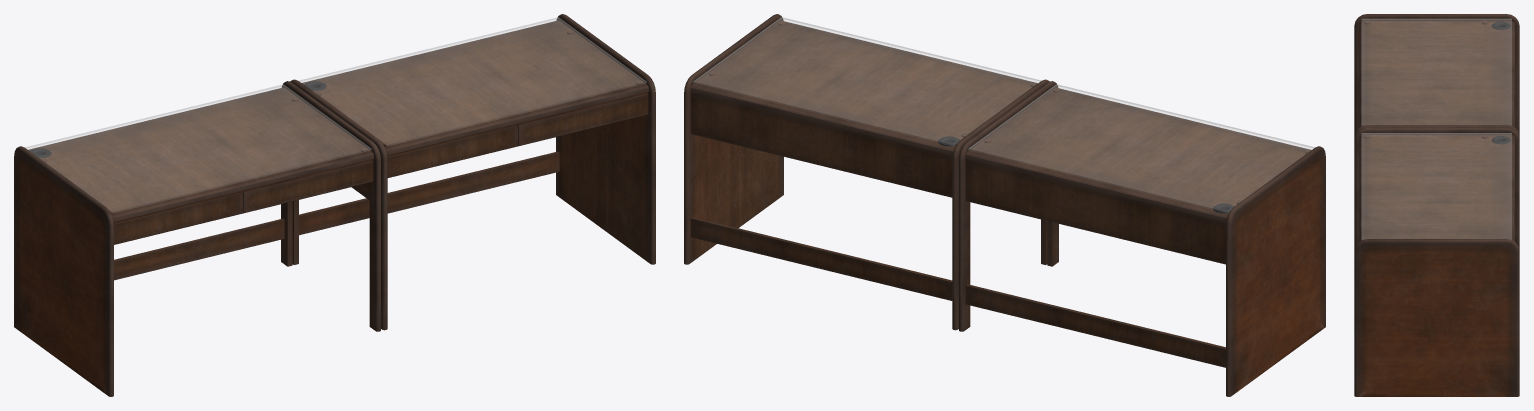
File: Table 6.FBX
3 renders of one model, left to right at view 1: azimuth 30°, elevation 25°; view 2: azimuth 150°, elevation 25°; view 3: azimuth 270°, elevation 25°, orthographic. The views are drawn at different scales.
Visible parts, largest first — view 1: Table 6 5, Table 6 3, Table 6 1, Table 6, Table 6 4; view 2: Table 6 5; view 3: Table 6 5.
Part boxes in pixels (<box>): Table 6 5: <box>14,14,655,396</box>; Table 6 3: <box>518,93,648,145</box>; Table 6 1: <box>243,160,373,212</box>; Table 6: <box>387,126,515,177</box>; Table 6 4: <box>114,193,240,244</box>; Table 6 5: <box>684,14,1325,396</box>; Table 6 5: <box>1354,14,1519,396</box>.
Size of the model in its own units: 311 by 100 by 95.72.
